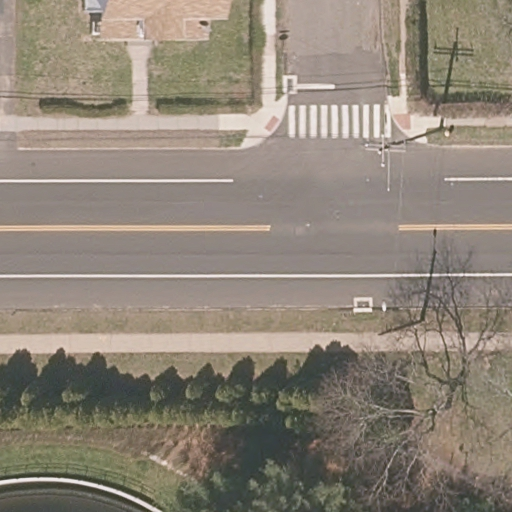DT: (366, 134, 406, 167)
